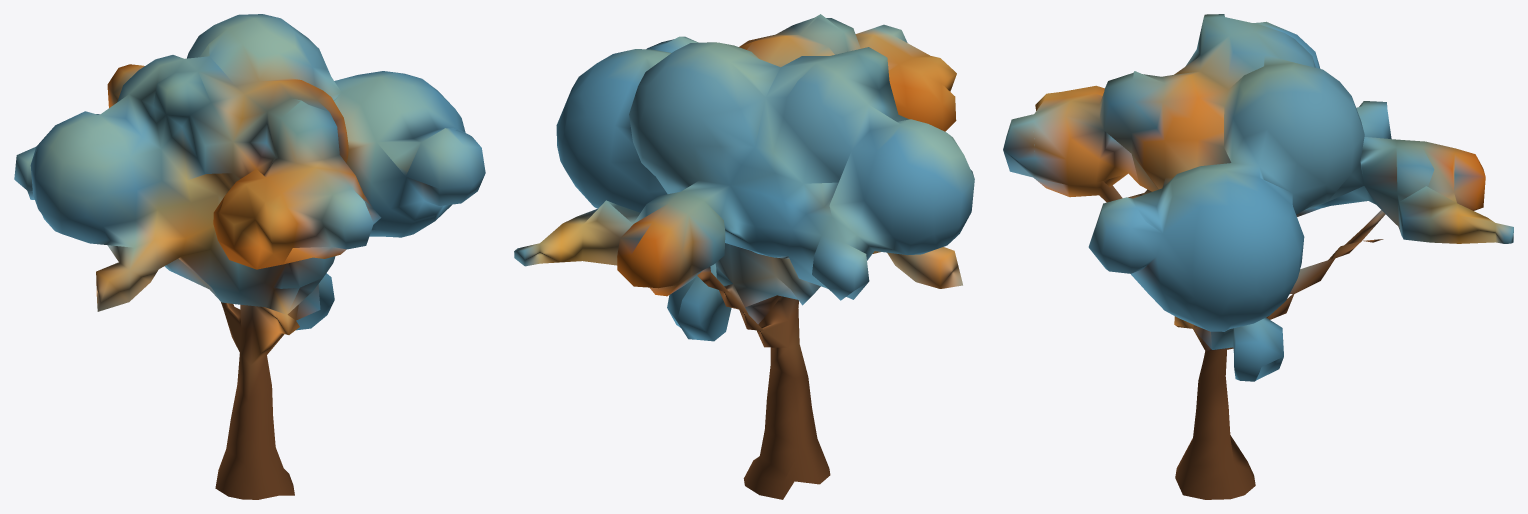
The model's file is canopy-tree-205-lod2.obj.
3 renders of one model, left to right at view 1: azimuth 30°, elevation 25°; view 2: azimuth 150°, elevation 25°; view 3: azimuth 270°, elevation 25°, orthographic. The views are drawn at different scales.
Parts seen in each view (by area): view 1: simplified; view 2: simplified; view 3: simplified.
Boxes of the visible parts, x1=… form: simplified: x1=14, y1=14, x2=485, y2=499; simplified: x1=514, y1=14, x2=974, y2=499; simplified: x1=1003, y1=14, x2=1513, y2=499.
Size of the model in its own units: 352 by 365 by 390.
